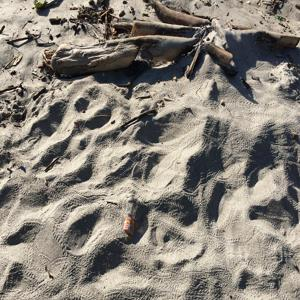glass: (117, 186, 143, 241)
